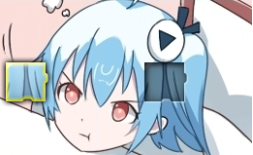gap: (144, 62, 187, 102)
